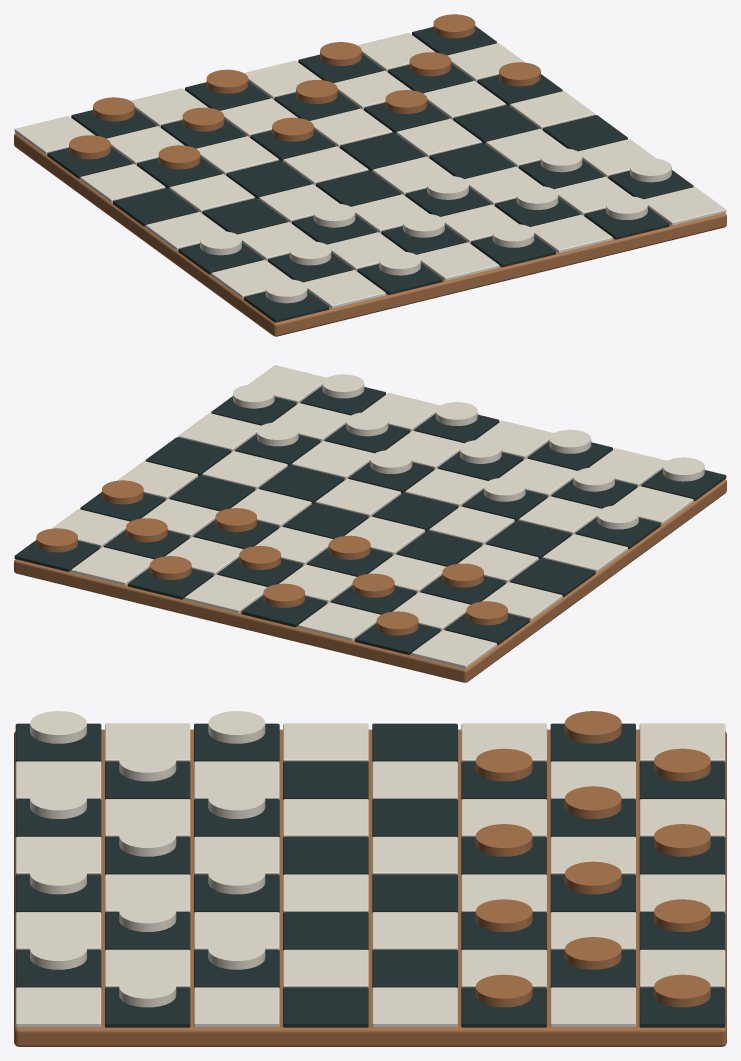
The model's file is wp-plateau-de-dames.glb.
3 views of the same model, one above another, from view 1: azimuth 30°, elevation 25°; view 2: azimuth 150°, elevation 25°; view 3: azimuth 270°, elevation 25° (orthographic). The views are drawn at different scales.
Parts seen in each view (by area): view 1: wp-plateau-de-dames; view 2: wp-plateau-de-dames; view 3: wp-plateau-de-dames.
Part boxes in pixels (x1,y1,x2,y2): wp-plateau-de-dames: (14,14,726,336); wp-plateau-de-dames: (14,365,726,682); wp-plateau-de-dames: (14,711,726,1046).
Bounding box in the file's own units: 0.45 × 0.03 × 0.45.
